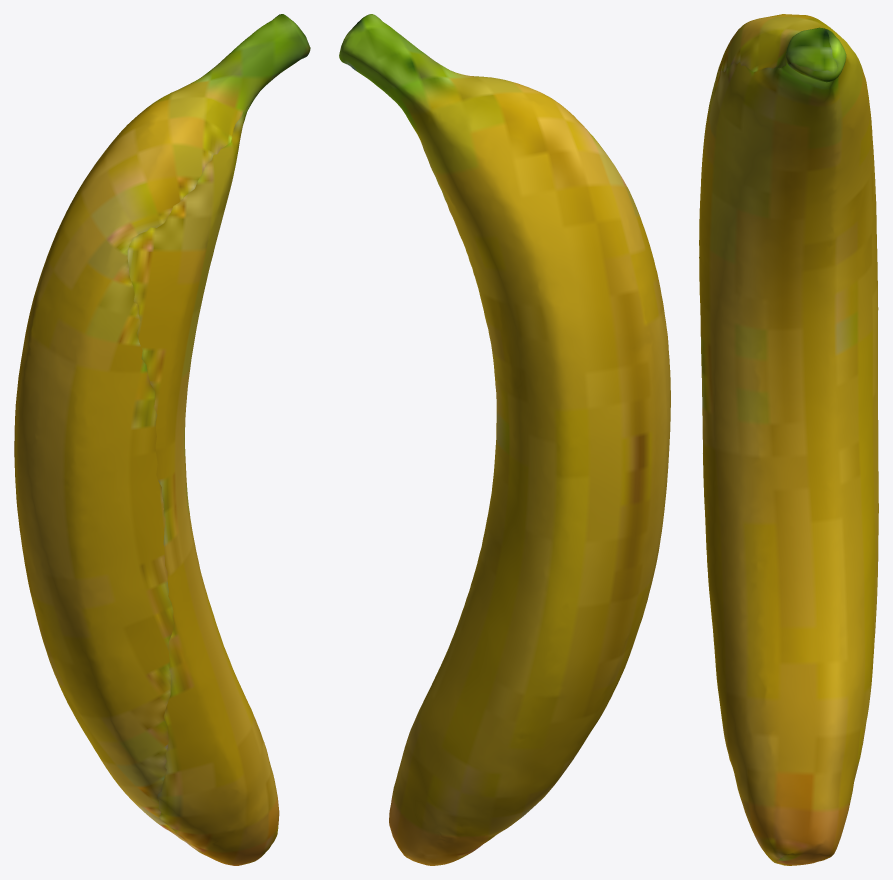
The model's file is banana_fixed.glb.
3 views of the same model, side by side, from view 1: azimuth 30°, elevation 25°; view 2: azimuth 150°, elevation 25°; view 3: azimuth 270°, elevation 25° (orthographic). The views are drawn at different scales.
Visible parts, largest first — view 1: textured; view 2: textured; view 3: textured.
Boxes of the visible parts, x1,y1,x2,y2 form: textured: (14,14,310,865); textured: (339,14,670,865); textured: (699,14,878,865).
Bounding box in the file's own units: 0.0736 × 0.1972 × 0.037.
Materials: 1 (1 with a texture image).
